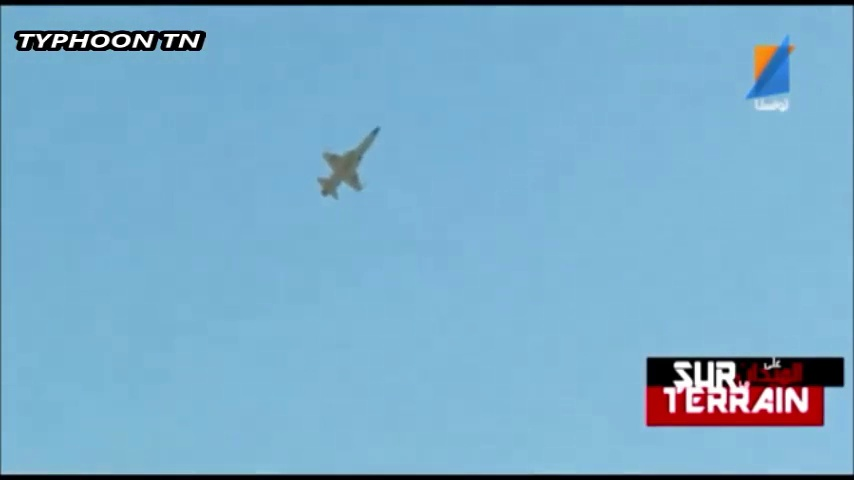Airplane: (314, 121, 382, 204)
